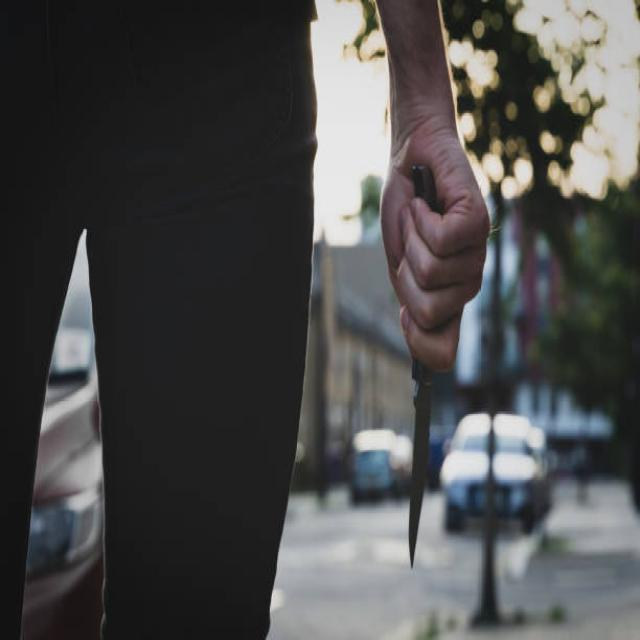faca: (364, 117, 494, 588)
